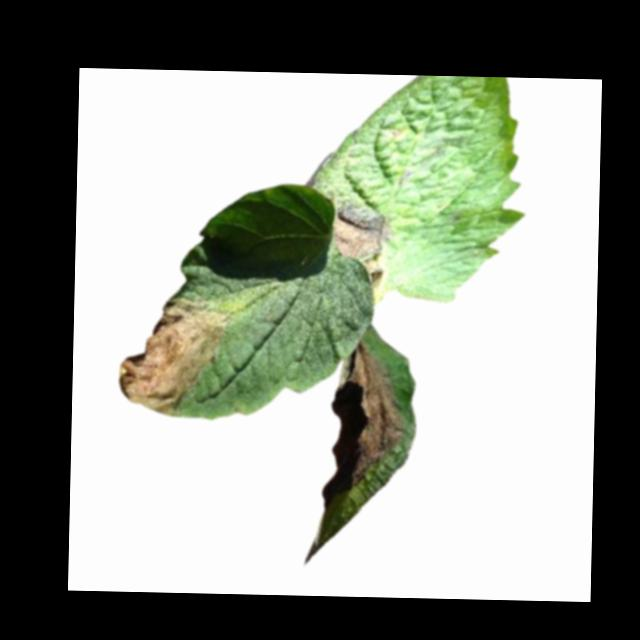Late_blight: (115, 297, 232, 420), (349, 340, 401, 487), (330, 204, 393, 261), (361, 262, 385, 291)
